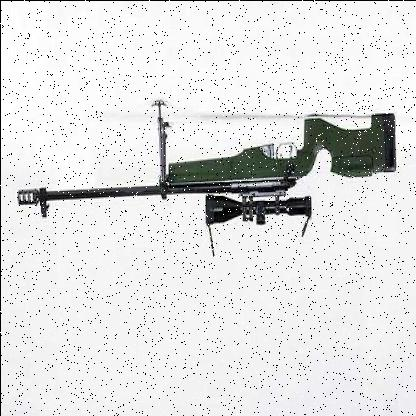rifle: (11, 98, 406, 298)
